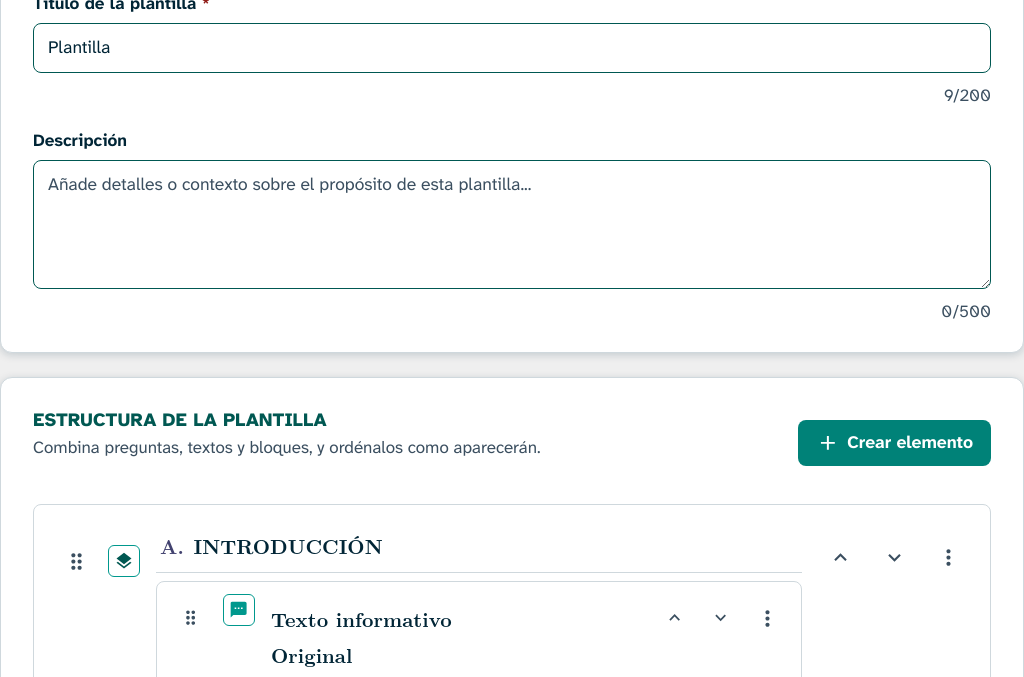
TemplateBuilder › edita contenido de texto alojado dentro de un bloque
The width and height of the screenshot is (1024, 677).
Click the button named "Opciones del texto informativo del bloque" at (767, 618), box [745,596,789,640]
(page scrolled)
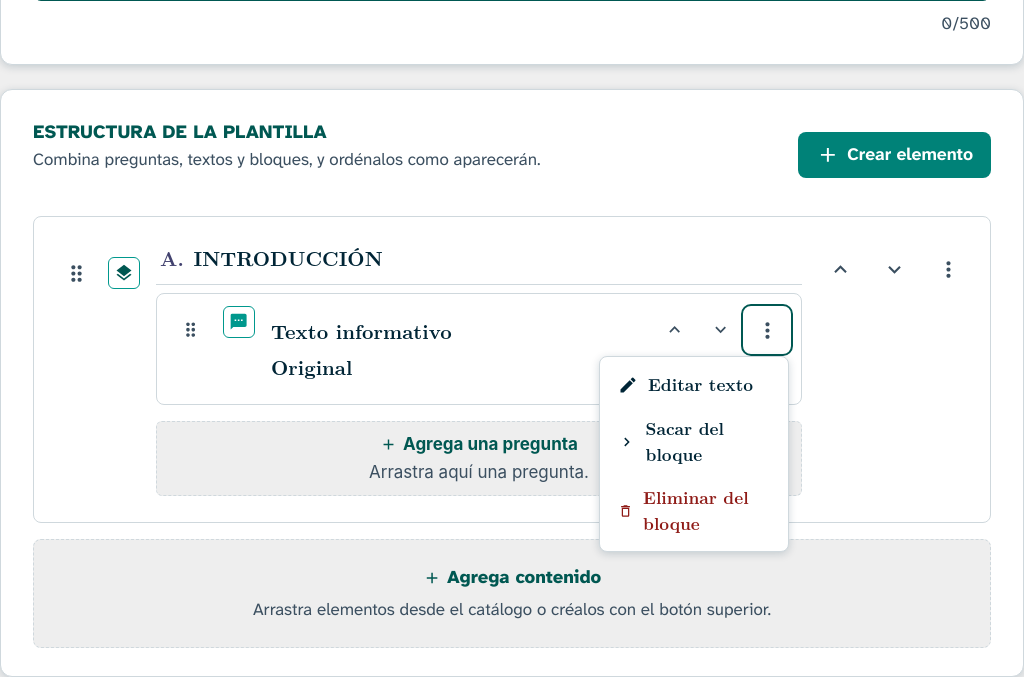
Click the button "Editar texto" at (694, 385), box [606,363,782,407]
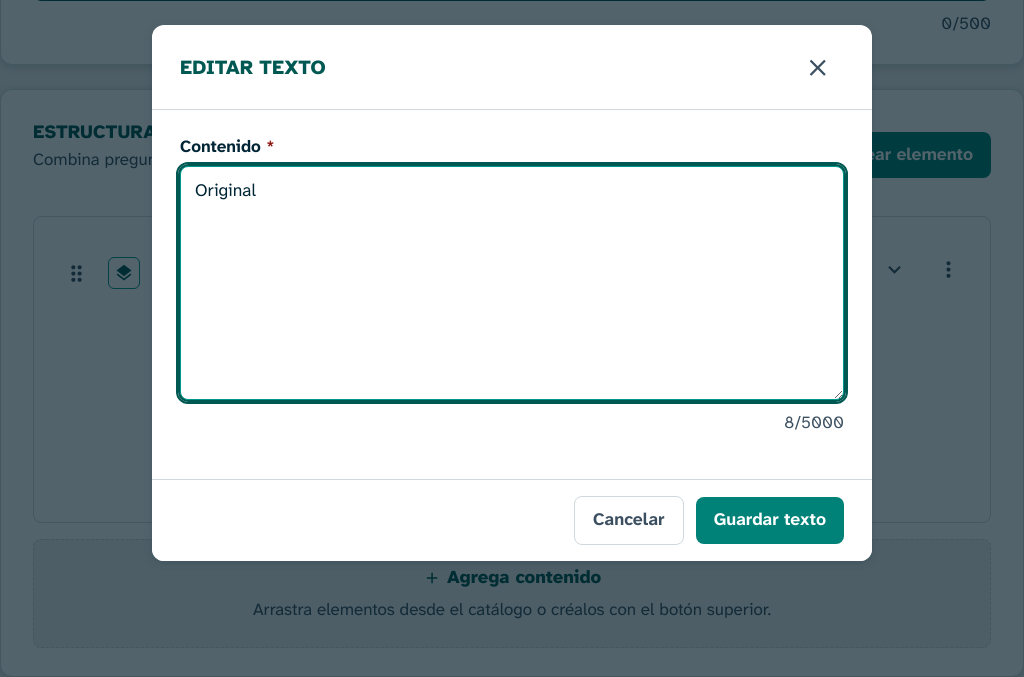
Replace the text in the text box labelled "Contenido *" with "Revisado" at (512, 283), box [180,166,844,400]
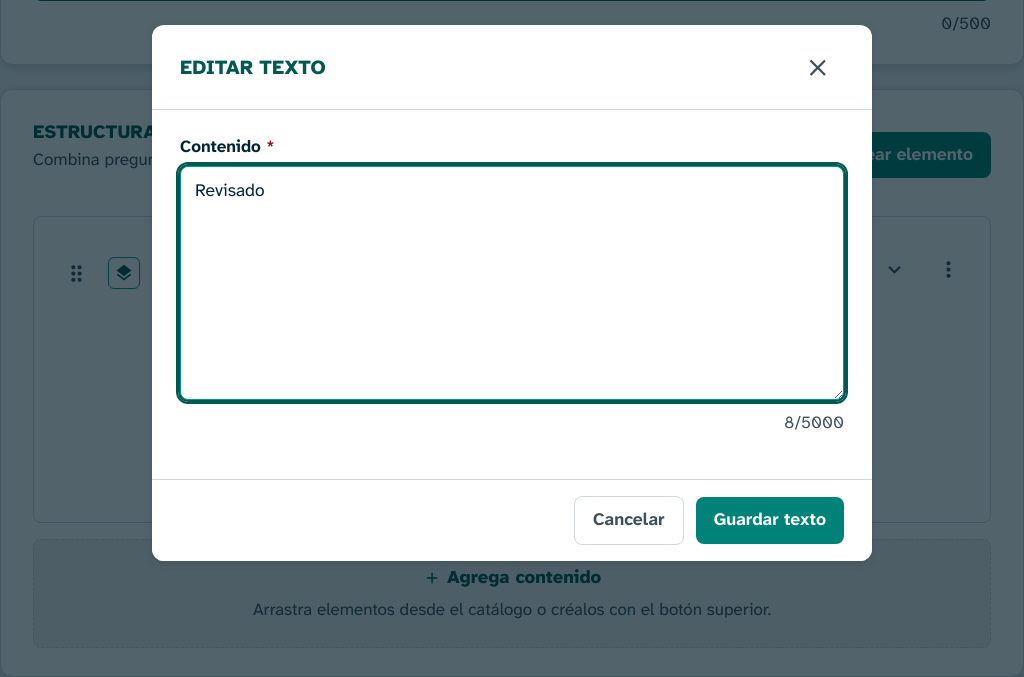
Click the button "Guardar texto" at (770, 521), box [696,497,844,544]
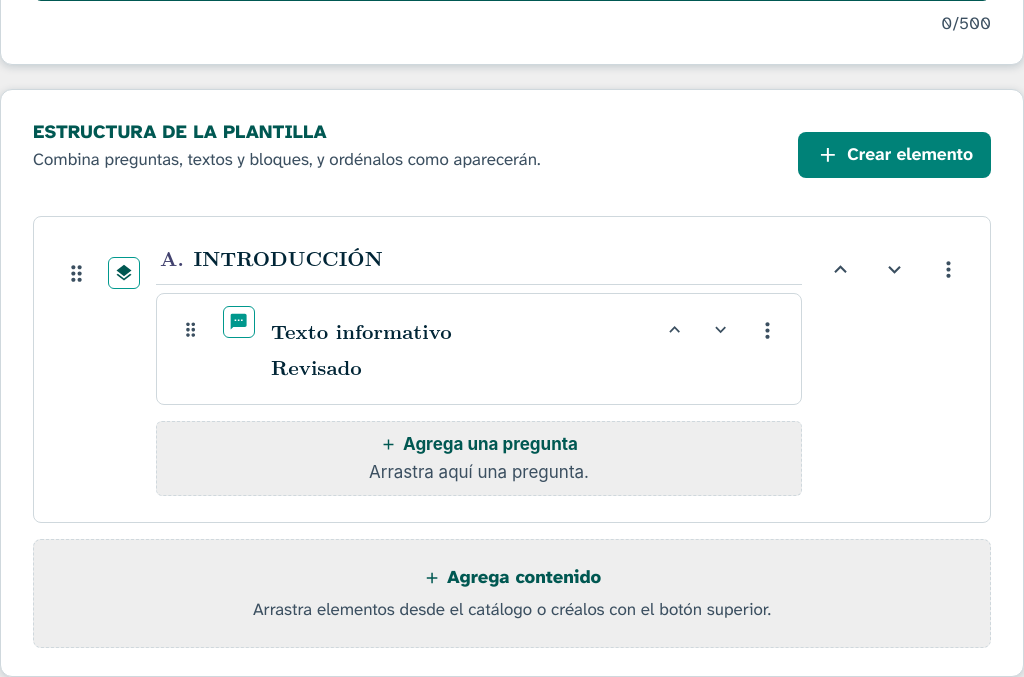
Expected: the text "Revisado" is shown, [271,352,362,381]
